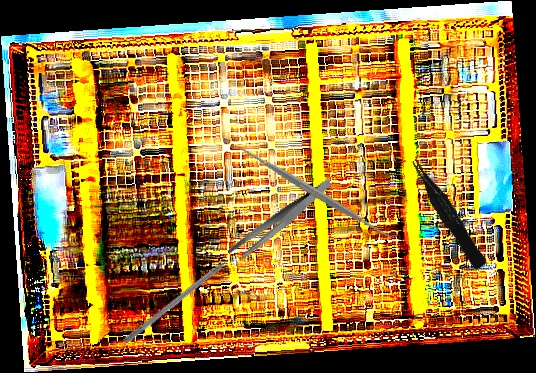Dressing Forceps: (216, 177, 345, 264)
Pusher: (122, 246, 246, 346)
Spatula Surgical: (230, 135, 400, 249)
Tissue Forceps: (408, 153, 488, 273)
